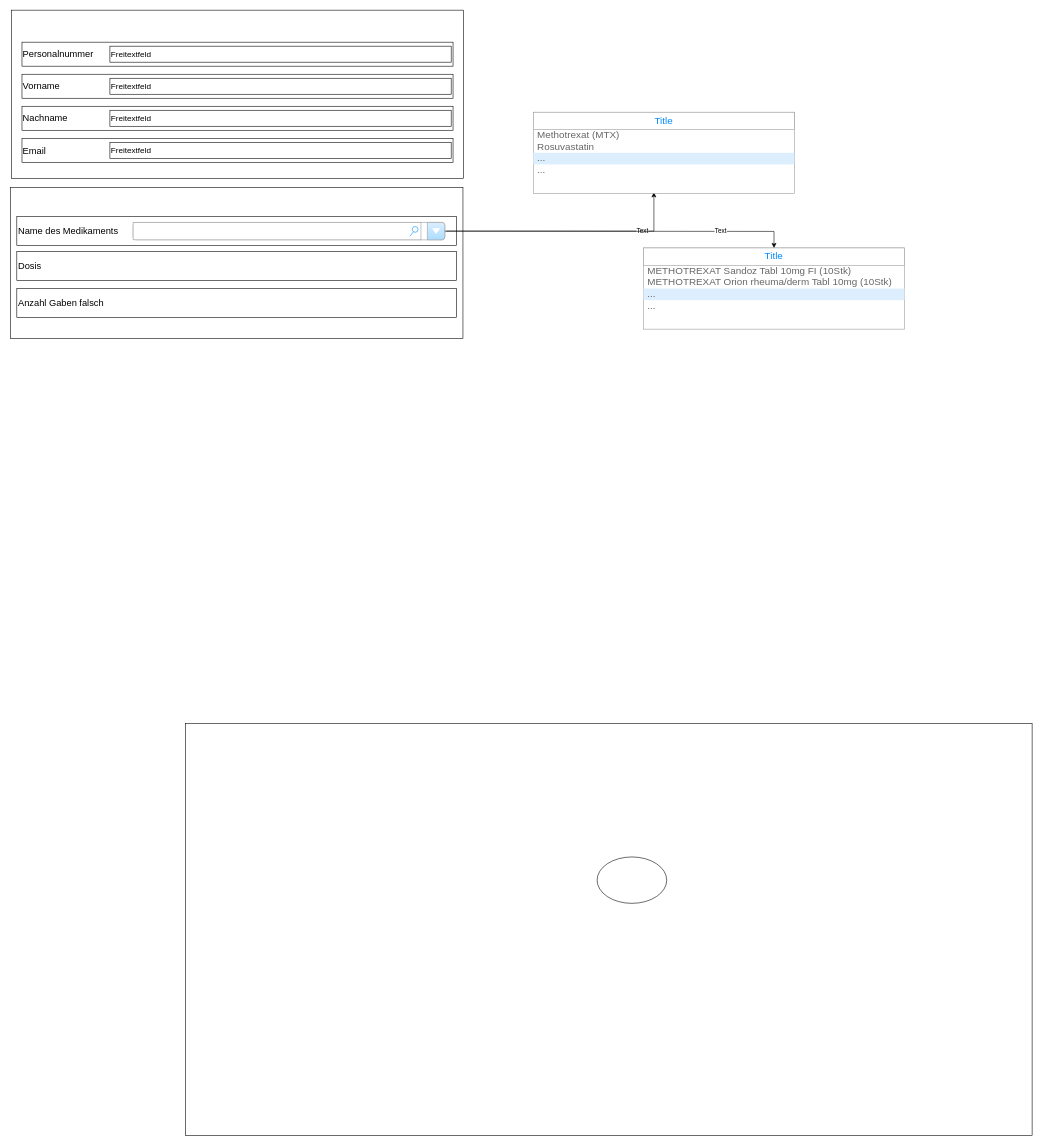
The diagram is 1043 pixels wide and 1146 high, and some of its shapes have lost their labels. The box of each missing label's shape, as (x1, y1, x2, y2) in pixels:
Information zur Meldeperson: (11, 10, 464, 178)
Medikament der Falschverschreibung: (10, 187, 463, 338)
Search: (133, 222, 421, 240)
